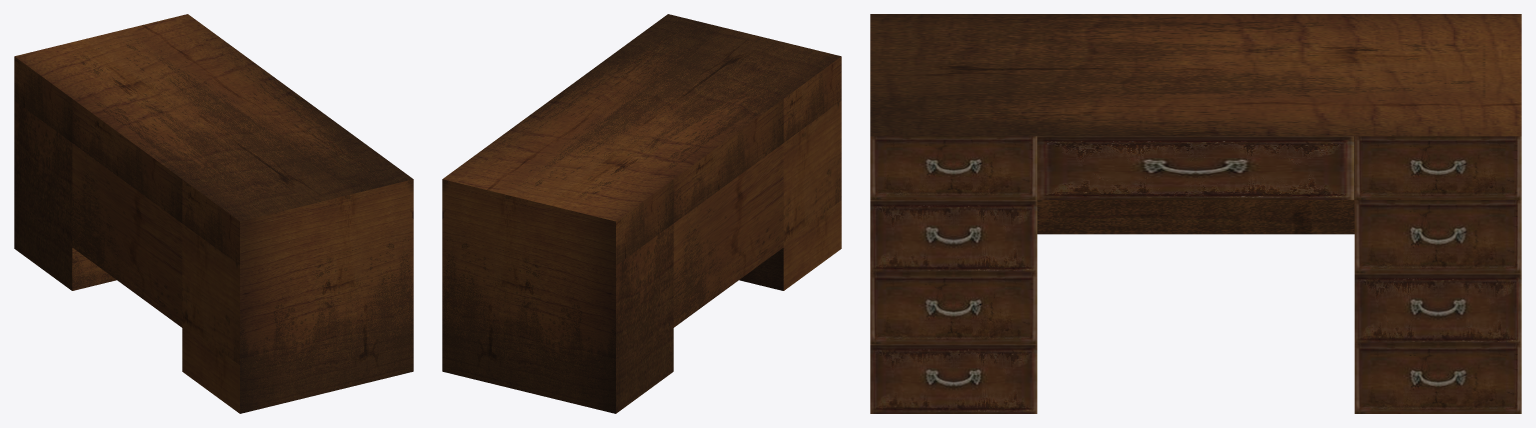
Rendered from OfficeTable.fbx.
3 renders of one model, left to right at view 1: azimuth 30°, elevation 25°; view 2: azimuth 150°, elevation 25°; view 3: azimuth 270°, elevation 25°, orthographic. The views are drawn at different scales.
Parts seen in each view (by area): view 1: OfficeTable; view 2: OfficeTable; view 3: OfficeTable.
Part boxes in pixels (x1,y1,x2,y2): OfficeTable: (14,14,413,413); OfficeTable: (442,14,841,413); OfficeTable: (870,14,1521,413).
Bounding box in the file's own units: 32.74 × 34.7 × 73.77.
